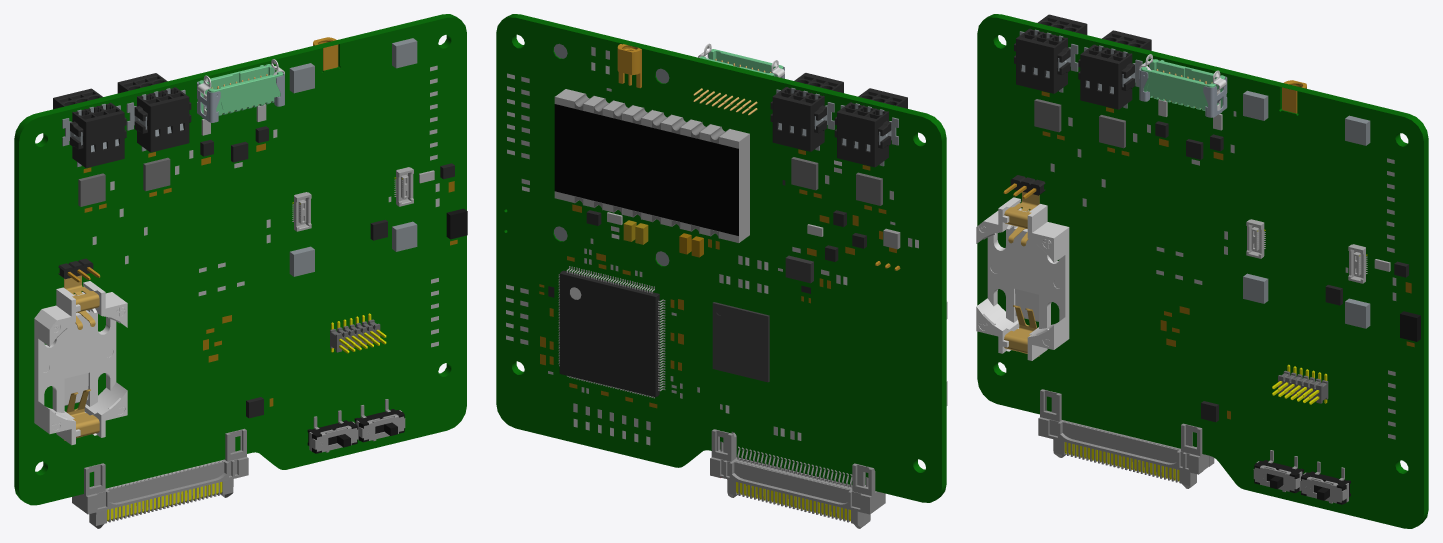
The model's file is moveup.glb.
3 views of the same model, side by side, from view 1: azimuth 30°, elevation 25°; view 2: azimuth 150°, elevation 25°; view 3: azimuth 330°, elevation 25° (orthographic).
Parts seen in each view (by area): view 1: board, if_10, blocks, if_0, if_5, if_8, if_9, decals, if_1, if_13, if_12, if_2 (+4 smaller); view 2: board, parts, if_0, decals, blocks, if_6, if_7, if_5, if_4, if_9, if_8; view 3: board, if_10, blocks, if_0, if_5, if_9, if_8, decals, if_1, if_12, if_13, if_3 (+4 smaller).
Part boxes in pixels (box(x1,y1,x2,y2)): board: box(14, 14, 466, 505); if_10: box(34, 275, 127, 445); blocks: box(78, 38, 467, 418); if_0: box(72, 428, 248, 528); if_5: box(197, 59, 284, 122); if_8: box(126, 87, 191, 152); if_9: box(62, 102, 126, 167); decals: box(83, 65, 457, 406); if_1: box(330, 313, 386, 353); if_13: box(307, 410, 358, 453); if_12: box(354, 399, 405, 442); if_2: box(394, 167, 413, 206); board: box(496, 14, 946, 502); parts: box(554, 89, 769, 398); if_0: box(710, 429, 885, 528); decals: box(506, 46, 918, 445); blocks: box(554, 43, 900, 283); if_6: box(770, 87, 834, 151); if_7: box(834, 102, 898, 167); if_5: box(693, 43, 784, 115); if_4: box(617, 44, 641, 88); if_9: box(858, 88, 907, 108); if_8: box(794, 73, 843, 92); board: box(977, 14, 1428, 528); if_10: box(976, 192, 1069, 360); blocks: box(1034, 90, 1420, 422); if_0: box(1038, 389, 1214, 488); if_5: box(1139, 54, 1227, 117); if_9: box(1014, 28, 1078, 93); if_8: box(1078, 44, 1142, 109); decals: box(1041, 91, 1414, 439); if_1: box(1272, 364, 1328, 404); if_12: box(1300, 461, 1350, 504); if_13: box(1253, 450, 1303, 493); if_3: box(1246, 219, 1265, 258).
Bounding box in the file's own units: 92 × 85.4 × 12.8.
